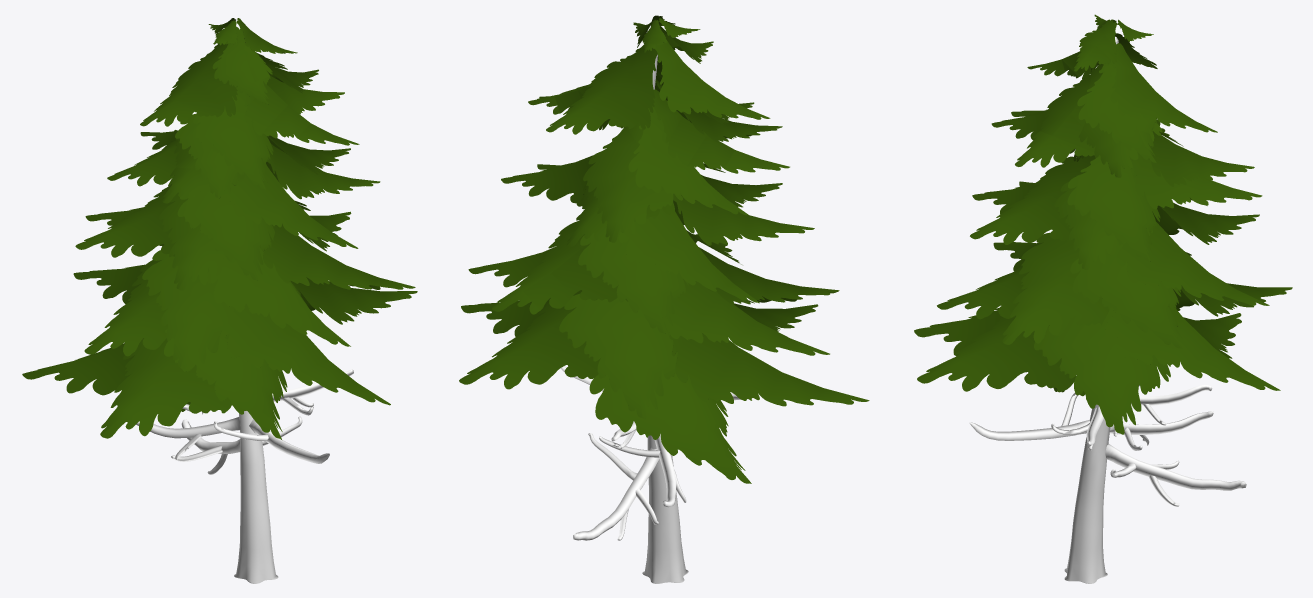
File: pine-1.glb
3 views of the same model, side by side, from view 1: azimuth 30°, elevation 25°; view 2: azimuth 150°, elevation 25°; view 3: azimuth 270°, elevation 25° (orthographic). The views are drawn at different scales.
Visible parts, largest first — view 1: Pine_1; view 2: Pine_1; view 3: Pine_1.
Part boxes in pixels (x1,y1,x2,y2): Pine_1: (22, 18, 417, 583); Pine_1: (459, 15, 869, 583); Pine_1: (914, 14, 1292, 583).
Bounding box in the file's own units: 4.94 × 7.08 × 4.54.
Materials: 2 (1 with a texture image).
